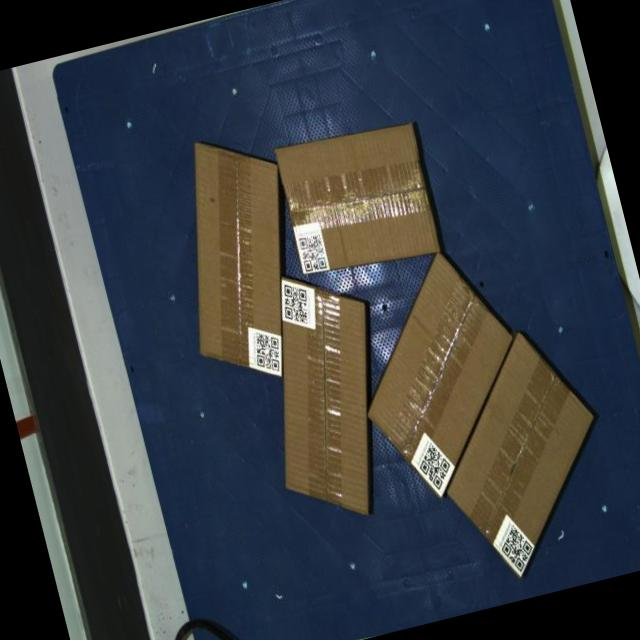box: (333, 239, 547, 512), (413, 318, 627, 590), (236, 258, 414, 533), (150, 124, 327, 396), (271, 115, 443, 284)
